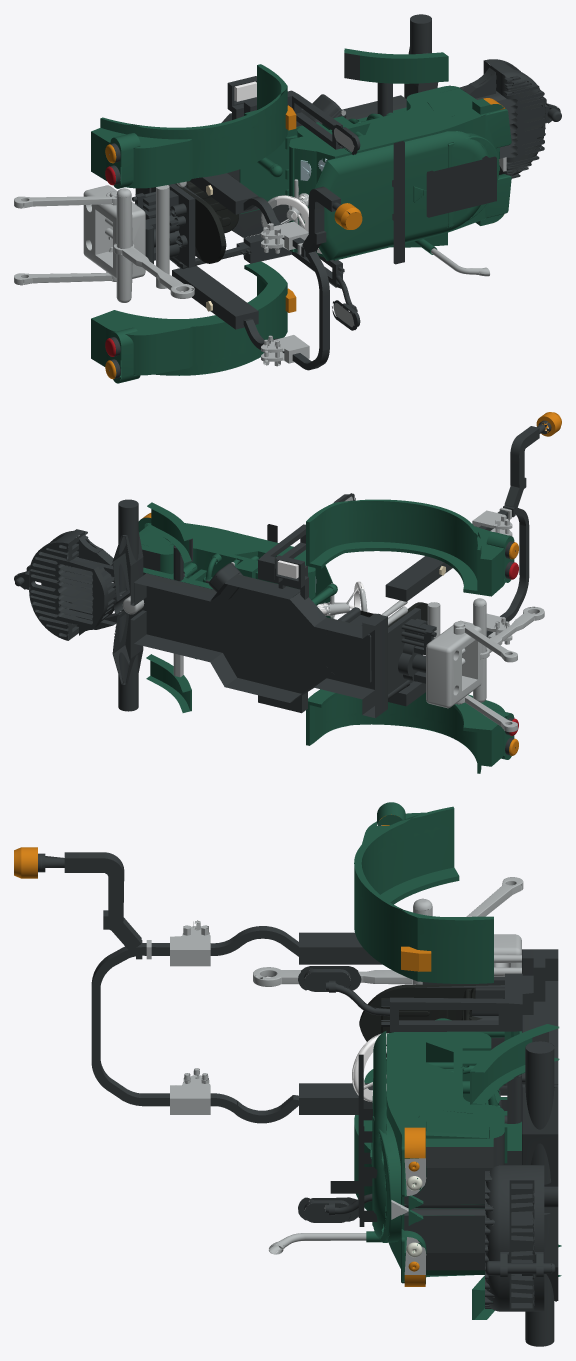
Rendered from vehicle_visual.obj.
3 views of the same model, one above another, from view 1: azimuth 30°, elevation 25°; view 2: azimuth 150°, elevation 25°; view 3: azimuth 270°, elevation 25° (orthographic). The views are drawn at different scales.
Visible parts, largest first — view 1: 0004_Product1_AllCATPart, 0048_Product1_AllCATPart, 0030_Product1_AllCATPart, 0047_Product1_AllCATPart, 0001_Product1_AllCATPart, 0046_Product1_AllCATPart, 0035_Product1_AllCATPart, SensorMount_front_plate, 0049_Product1_AllCATPart, 0017_Product1_AllCATPart, 0016_Product1_AllCATPart, 0040_Product1_AllCATPart (+9 smaller); view 2: 0001_Product1_AllCATPart, 0048_Product1_AllCATPart, 0047_Product1_AllCATPart, 0004_Product1_AllCATPart, 0035_Product1_AllCATPart, 0046_Product1_AllCATPart, 0049_Product1_AllCATPart, 0017_Product1_AllCATPart, 0040_Product1_AllCATPart, 0015_Product1_AllCATPart, 0005_Product1_AllCATPart, 0026_Product1_AllCATPart (+6 smaller); view 3: 0004_Product1_AllCATPart, 0001_Product1_AllCATPart, 0048_Product1_AllCATPart, 0046_Product1_AllCATPart, 0015_Product1_AllCATPart, 0030_Product1_AllCATPart, 0040_Product1_AllCATPart, 0017_Product1_AllCATPart, 0035_Product1_AllCATPart, 0043_Product1_AllCATPart, 0042_Product1_AllCATPart, 0014_Product1_AllCATPart (+4 smaller).
Part boxes in pixels (bbox=[...]): 0004_Product1_AllCATPart: bbox=[289, 48, 511, 274]; 0048_Product1_AllCATPart: bbox=[91, 64, 287, 188]; 0030_Product1_AllCATPart: bbox=[315, 131, 499, 260]; 0047_Product1_AllCATPart: bbox=[91, 261, 287, 383]; 0001_Product1_AllCATPart: bbox=[135, 14, 561, 247]; 0046_Product1_AllCATPart: bbox=[172, 173, 329, 370]; 0035_Product1_AllCATPart: bbox=[83, 185, 194, 302]; SensorMount_front_plate: bbox=[426, 156, 496, 217]; 0049_Product1_AllCATPart: bbox=[132, 184, 195, 267]; 0017_Product1_AllCATPart: bbox=[175, 176, 238, 263]; 0016_Product1_AllCATPart: bbox=[239, 125, 302, 214]; 0040_Product1_AllCATPart: bbox=[301, 186, 362, 257]; 0001_Product1_AllCATPart: bbox=[14, 499, 387, 718]; 0048_Product1_AllCATPart: bbox=[306, 499, 518, 596]; 0047_Product1_AllCATPart: bbox=[306, 689, 518, 773]; 0004_Product1_AllCATPart: bbox=[121, 502, 315, 659]; 0035_Product1_AllCATPart: bbox=[426, 598, 544, 708]; 0046_Product1_AllCATPart: bbox=[385, 507, 529, 706]; 0049_Product1_AllCATPart: bbox=[388, 607, 436, 694]; 0017_Product1_AllCATPart: bbox=[326, 602, 427, 682]; 0040_Product1_AllCATPart: bbox=[503, 412, 561, 517]; 0015_Product1_AllCATPart: bbox=[258, 493, 355, 583]; 0005_Product1_AllCATPart: bbox=[146, 654, 191, 712]; 0026_Product1_AllCATPart: bbox=[317, 581, 367, 618]; 0004_Product1_AllCATPart: bbox=[278, 1018, 559, 1286]; 0001_Product1_AllCATPart: bbox=[485, 949, 558, 1346]; 0048_Product1_AllCATPart: bbox=[354, 802, 493, 983]; 0046_Product1_AllCATPart: bbox=[91, 926, 382, 1123]; 0015_Product1_AllCATPart: bbox=[298, 966, 522, 1031]; 0030_Product1_AllCATPart: bbox=[370, 1031, 400, 1242]; 0040_Product1_AllCATPart: bbox=[14, 847, 142, 959]; 0017_Product1_AllCATPart: bbox=[359, 984, 507, 1095]; 0035_Product1_AllCATPart: bbox=[253, 898, 521, 986]; 0043_Product1_AllCATPart: bbox=[170, 920, 210, 966]; 0042_Product1_AllCATPart: bbox=[170, 1068, 210, 1114]; 0014_Product1_AllCATPart: bbox=[298, 1193, 372, 1222].
Size of the model in its own units: 3.4 by 1.54 by 2.27.
